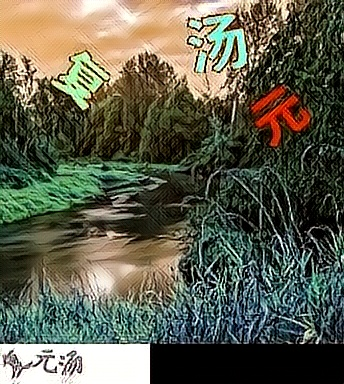B8B4: (48, 46, 112, 113)
CCC0: (186, 8, 250, 75)
D4AA: (247, 84, 311, 151)
